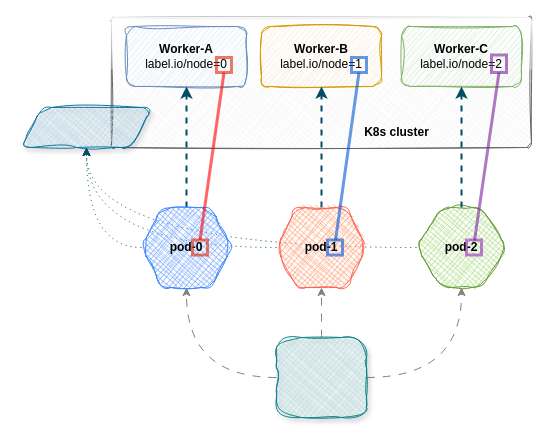
Image size: 549x442. Some labels were removed from this diagram. Each missing label, with the centre of its shape:
Scheduler Plugin: point (87, 128)
StatefulSet replicas: 3: point (322, 378)
